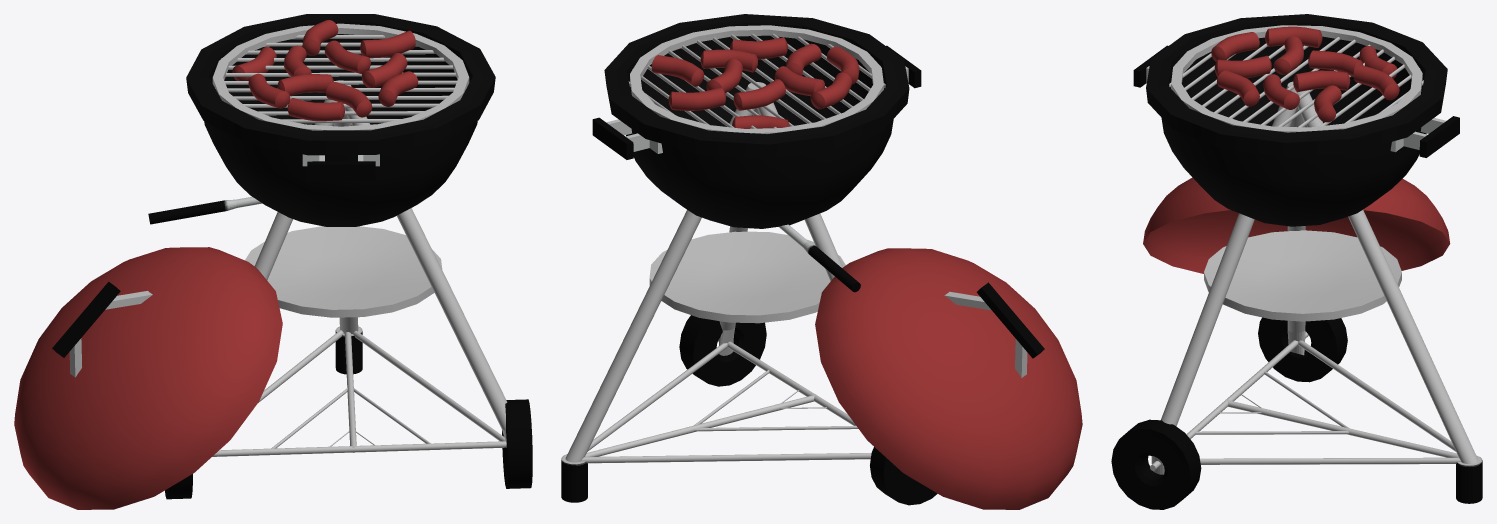
File: BBQ.fbx
3 views of the same model, side by side, from view 1: azimuth 30°, elevation 25°; view 2: azimuth 150°, elevation 25°; view 3: azimuth 270°, elevation 25° (orthographic).
Parts seen in each view (by area): view 1: BBQ; view 2: BBQ; view 3: BBQ.
Part boxes in pixels (<box>): BBQ: <box>14,14,532,509</box>; BBQ: <box>561,14,1082,509</box>; BBQ: <box>1111,14,1482,509</box>.
Bounding box in the file's own units: 4.56 × 3.95 × 3.41.
